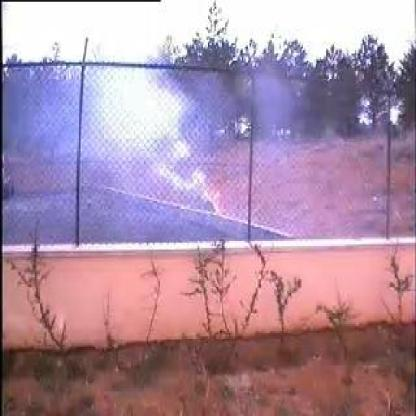-: (32, 67, 228, 235)
